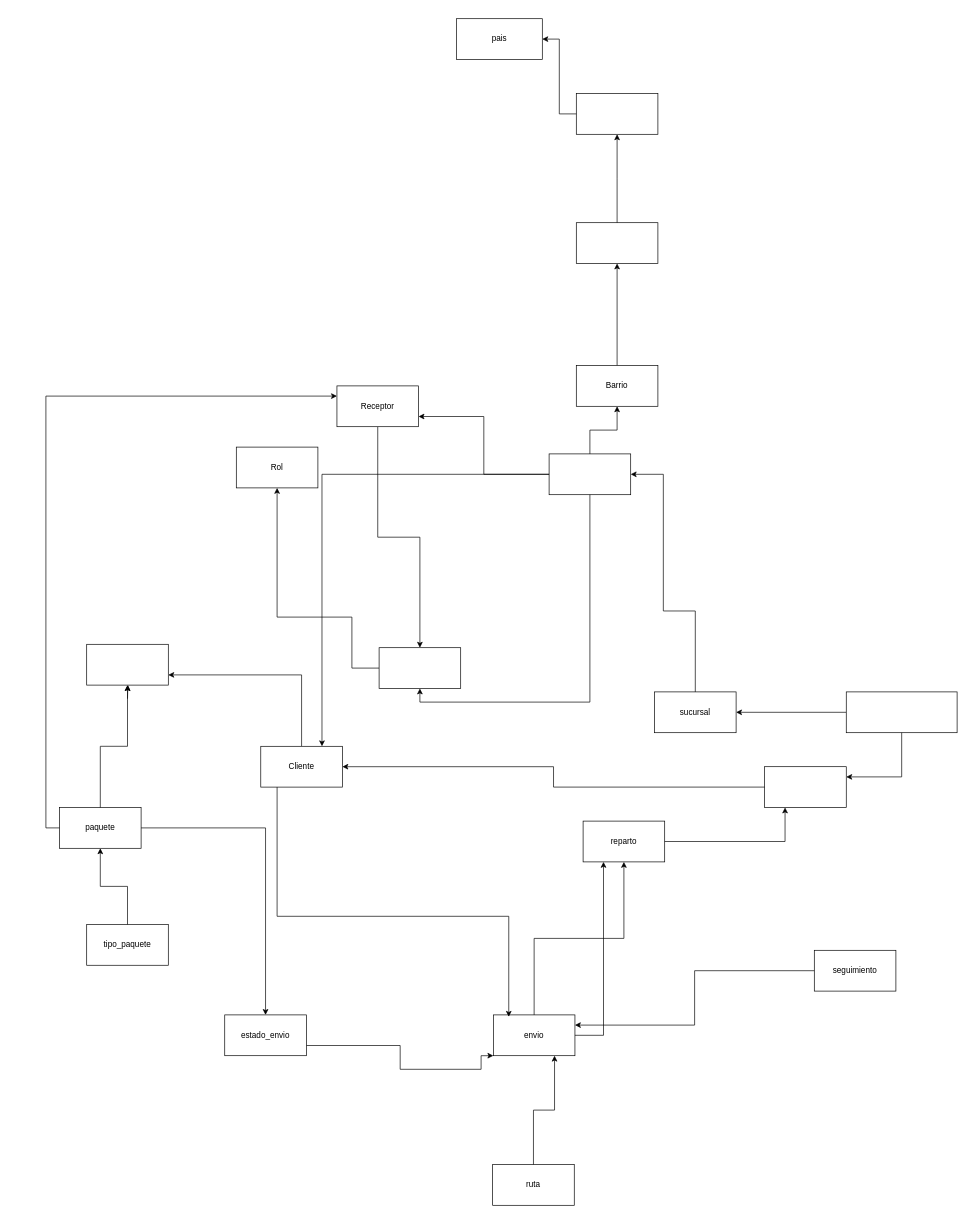
The diagram is 969 pixels wide and 1217 high, and some of its shapes have lost their labels. The centre of each missing label's shape, as x and y in pixels:
"Asignacion_repartidor" belongs at [901,712].
"ciudad" belongs at [617,243].
"departamento" belongs at [617,113].
"direccion" belongs at [589,474].
"propietario_paquete" belongs at [127,664].
"repartidor" belongs at [805,787].
"Usuario" belongs at [419,667].
